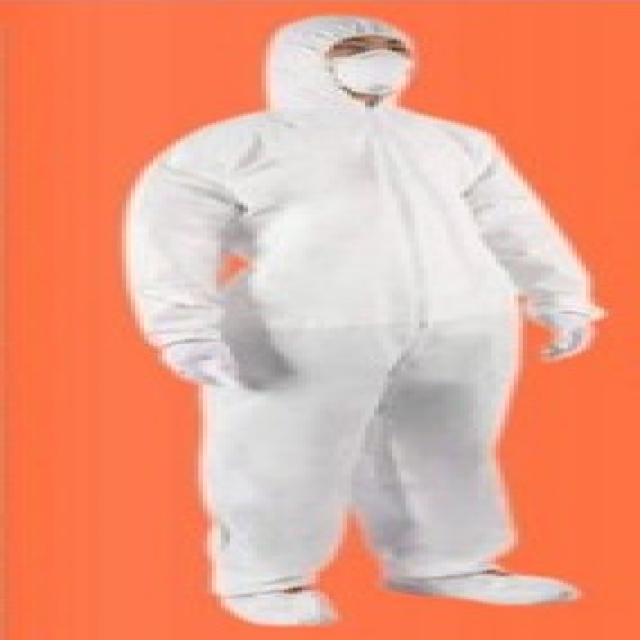Coverall: (108, 7, 613, 631)
Mask: (320, 46, 424, 91)
